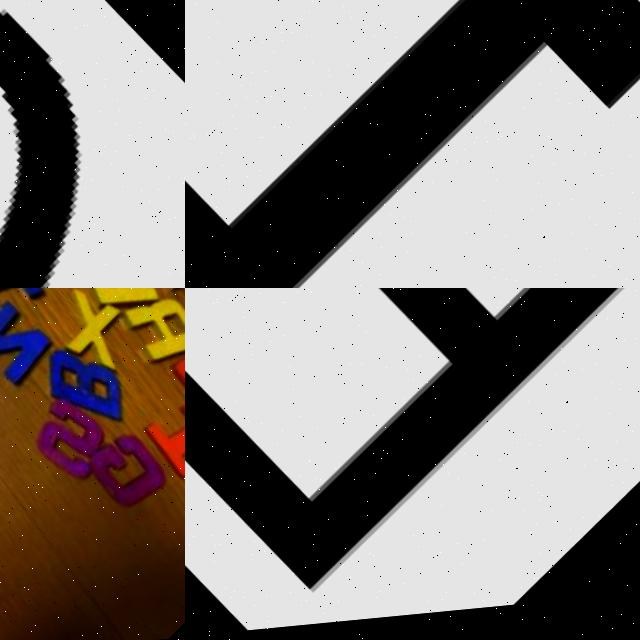B: (36, 332, 154, 451)
E: (185, 288, 628, 593)
G: (0, 0, 185, 288), (83, 429, 185, 540)
I: (185, 0, 640, 288), (144, 397, 185, 502)
L: (69, 288, 171, 338)
N: (0, 298, 61, 392)
R: (117, 288, 185, 387)
S: (19, 387, 123, 492)
T: (0, 288, 57, 327)
X: (40, 288, 145, 382)
